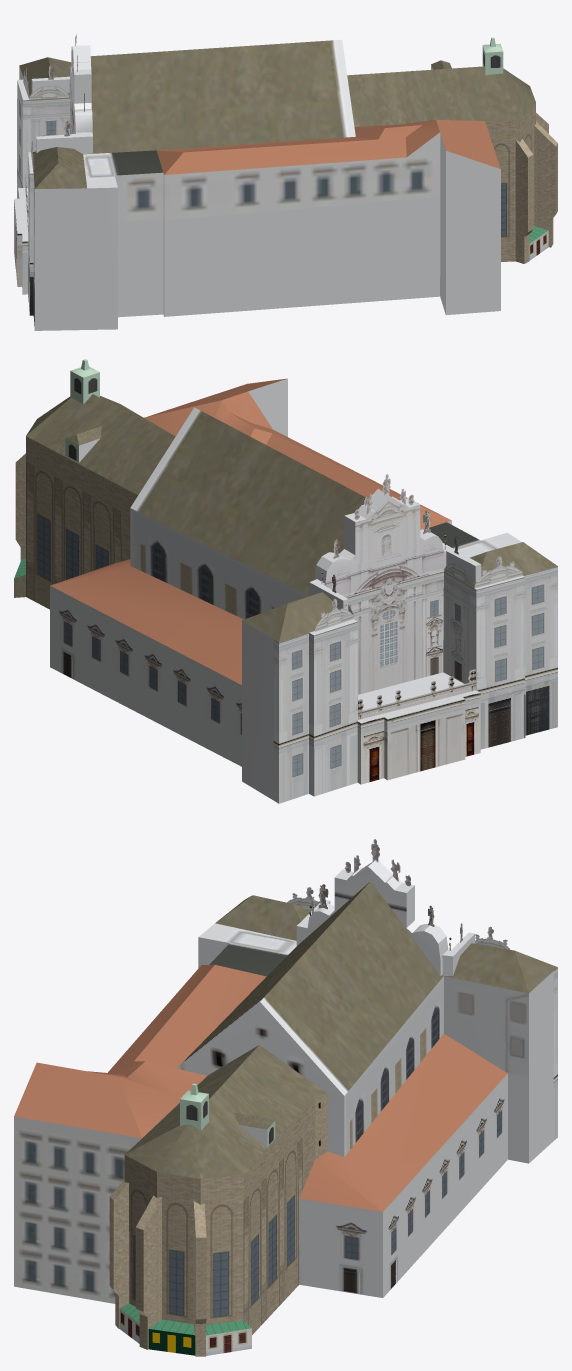
The model's file is AUT_BL5303_VIENNA_KIRCHE_AM_HOF_L.DAE.
3 views of the same model, one above another, from view 1: azimuth 30°, elevation 25°; view 2: azimuth 150°, elevation 25°; view 3: azimuth 270°, elevation 25° (orthographic). The views are drawn at different scales.
Parts seen in each view (by area): view 1: Model; view 2: Model; view 3: Model.
Part boxes in pixels (x1,y1,x2,y2): Model: [14, 34, 557, 330]; Model: [14, 359, 557, 803]; Model: [14, 839, 557, 1356].
Size of the model in its own units: 82.89 by 65.91 by 38.38.
Materials: 1 (1 with a texture image).
